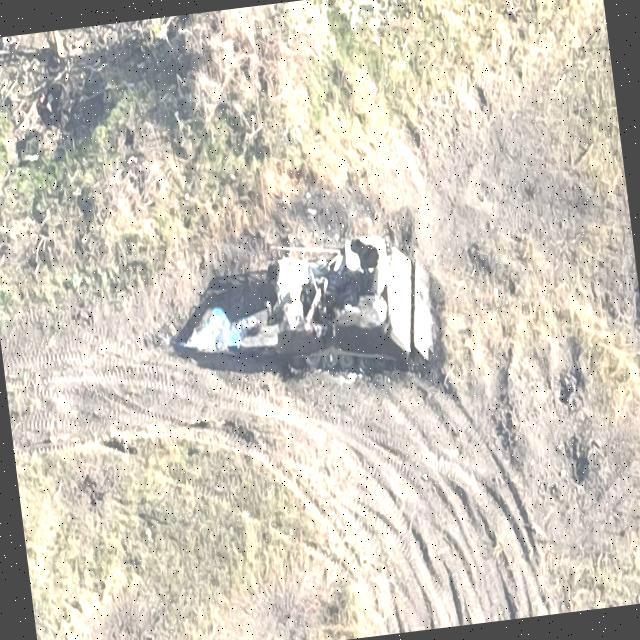APC: (266, 224, 446, 389)
